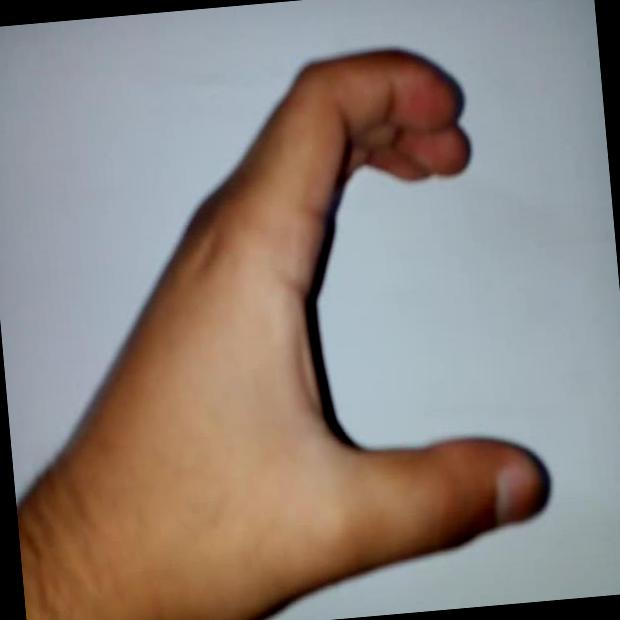B: (0, 25, 564, 620)
